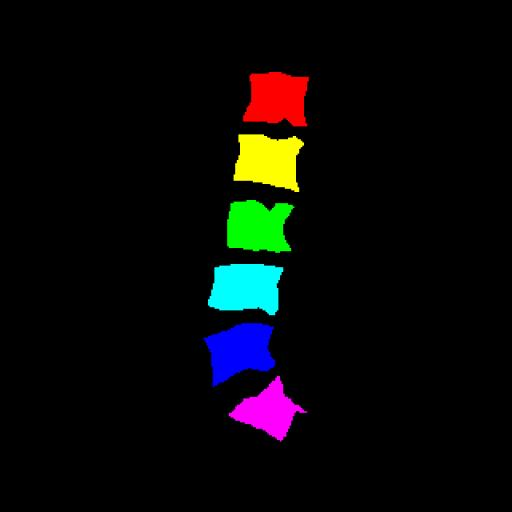L1: (241, 72, 308, 126)
L2: (234, 136, 302, 192)
L3: (226, 200, 294, 252)
L4: (206, 264, 282, 314)
L5: (204, 323, 275, 386)
S1: (229, 376, 306, 440)
